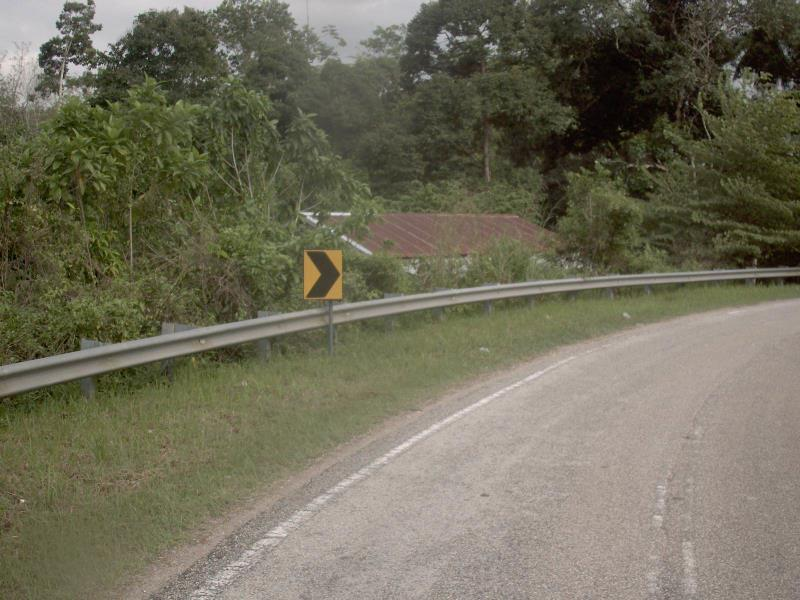traffic_sign: (292, 239, 355, 312)
